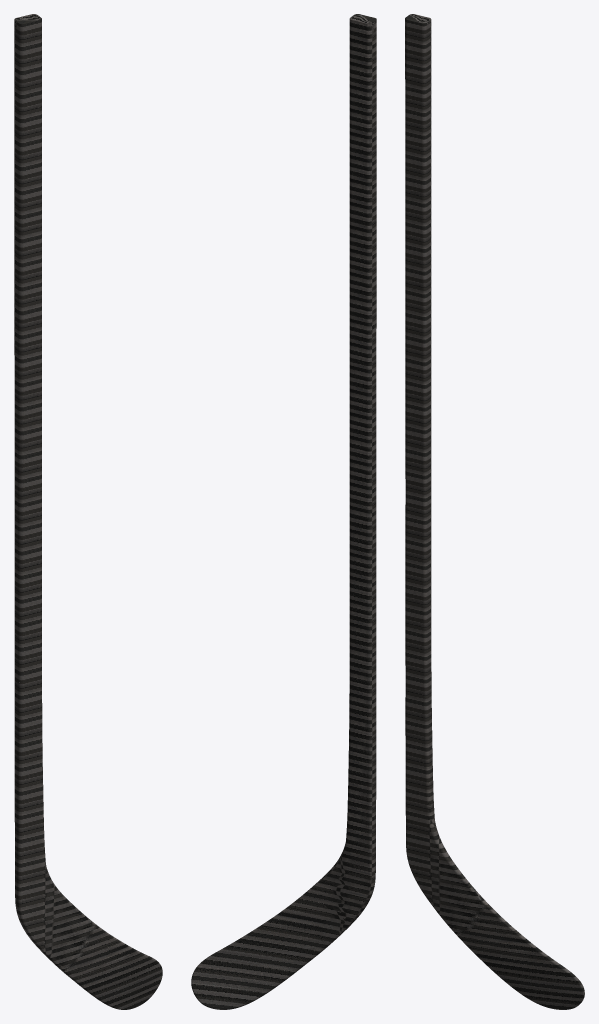
3 renders of one model, left to right at view 1: azimuth 30°, elevation 25°; view 2: azimuth 150°, elevation 25°; view 3: azimuth 330°, elevation 25°, orthographic. The views are drawn at different scales.
Parts seen in each view (by area): view 1: geometry_0; view 2: geometry_0; view 3: geometry_0.
Part boxes in pixels (x1,y1,x2,y2): geometry_0: (14, 14, 162, 1009); geometry_0: (191, 14, 376, 1009); geometry_0: (405, 14, 584, 1009).
Size of the model in its own units: 218 by 1290 by 62.36.
1 material, 1 textured.
